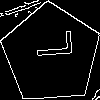L: (26, 29, 73, 60)
